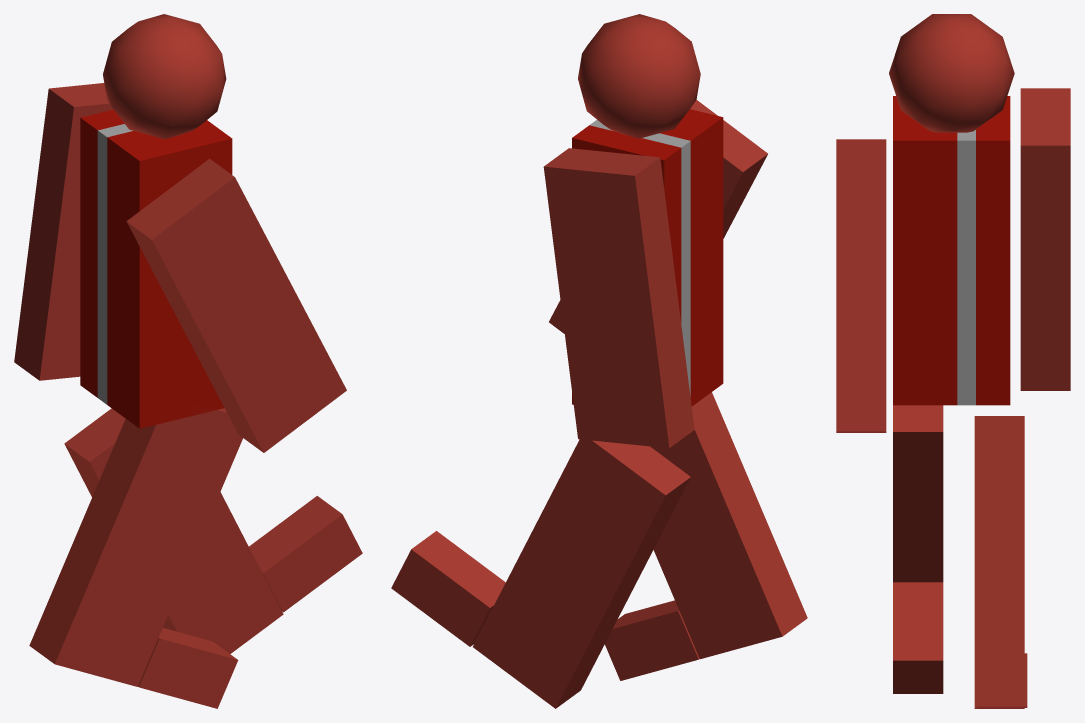
The model's file is player_000062.obj.
3 renders of one model, left to right at view 1: azimuth 30°, elevation 25°; view 2: azimuth 150°, elevation 25°; view 3: azimuth 270°, elevation 25°, orthographic.
Parts seen in each view (by area): view 1: Cube.010, Cube.013, Cube.007, Cube.012, Cube.008, Icosphere.001, Cube.009, Cube.011; view 2: Cube.012, Cube.008, Cube.010, Cube.007, Icosphere.001, Cube.009, Cube.011, Cube.013; view 3: Cube.007, Cube.012, Cube.013, Cube.008, Icosphere.001, Cube.010, Cube.011, Cube.009.
Part boxes in pixels (left/top/right/bottom): Cube.010: left=29, top=401, right=242, bottom=686; Cube.013: left=126, top=158, right=346, bottom=452; Cube.007: left=80, top=109, right=232, bottom=428; Cube.012: left=14, top=83, right=113, bottom=380; Cube.008: left=64, top=408, right=283, bottom=653; Icosphere.001: left=103, top=14, right=226, bottom=139; Cube.009: left=249, top=496, right=362, bottom=612; Cube.011: left=138, top=628, right=238, bottom=708; Cube.012: left=543, top=148, right=694, bottom=448; Cube.008: left=473, top=439, right=690, bottom=708; Cube.010: left=650, top=392, right=807, bottom=659; Cube.007: left=572, top=109, right=723, bottom=406; Icosphere.001: left=578, top=14, right=700, bottom=138; Cube.009: left=391, top=531, right=505, bottom=646; Cube.011: left=604, top=600, right=699, bottom=680; Cube.013: left=549, top=100, right=767, bottom=333; Cube.007: left=893, top=96, right=1010, bottom=405; Cube.012: left=1020, top=88, right=1070, bottom=390; Cube.013: left=836, top=139, right=886, bottom=432; Cube.008: left=974, top=416, right=1024, bottom=708; Icosphere.001: left=889, top=14, right=1014, bottom=132; Cube.010: left=893, top=405, right=943, bottom=582; Cube.011: left=893, top=582, right=943, bottom=693; Cube.009: left=977, top=653, right=1027, bottom=707.
Size of the model in its own units: 1.56 by 2.88 by 0.9137.
